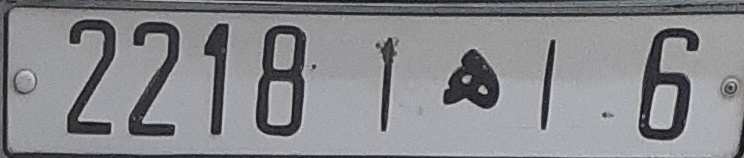1: (199, 22, 235, 138)
2: (125, 17, 181, 140), (64, 16, 118, 139)
6: (635, 25, 702, 143)
8: (254, 20, 309, 142)
h: (433, 45, 504, 115)
